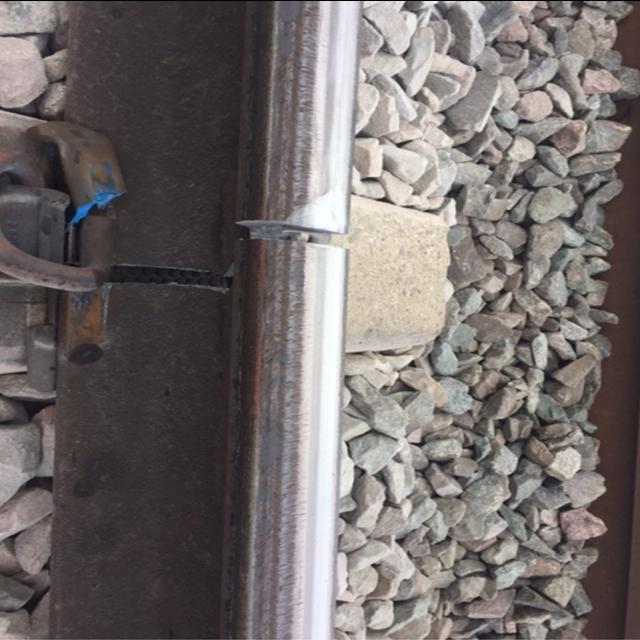broken_rail_medium: (76, 162, 361, 322)
